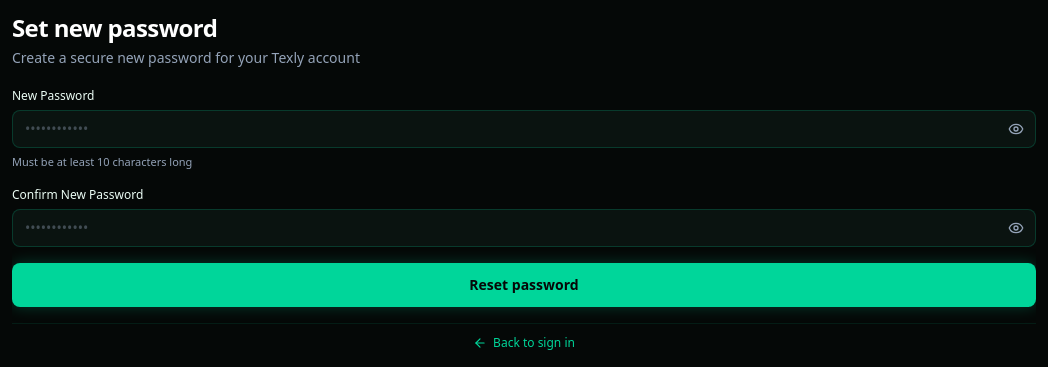
Test: ResetPasswordPage Component › resets password successfully and displays success screen
Type "NewBrandPassword123!" into the password field labelled "New Password" at (524, 129), box [12,110,1036,148]
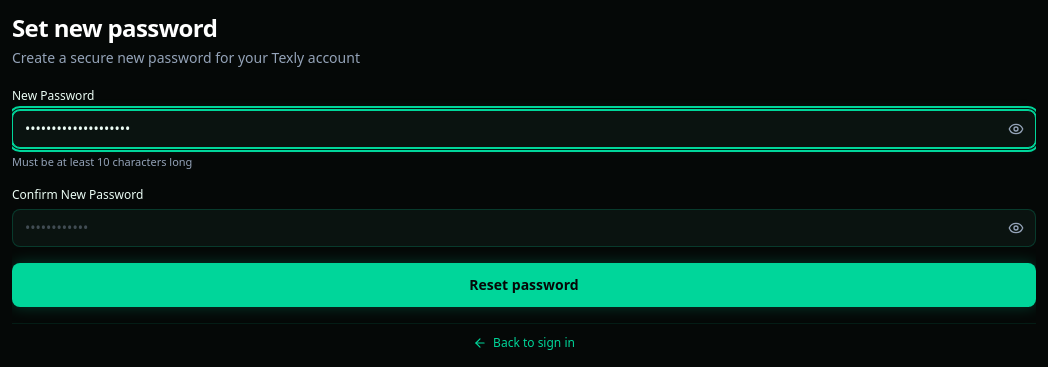
Type "NewBrandPassword123!" into the password field labelled "Confirm New Password" at (524, 228), box [12,208,1036,246]
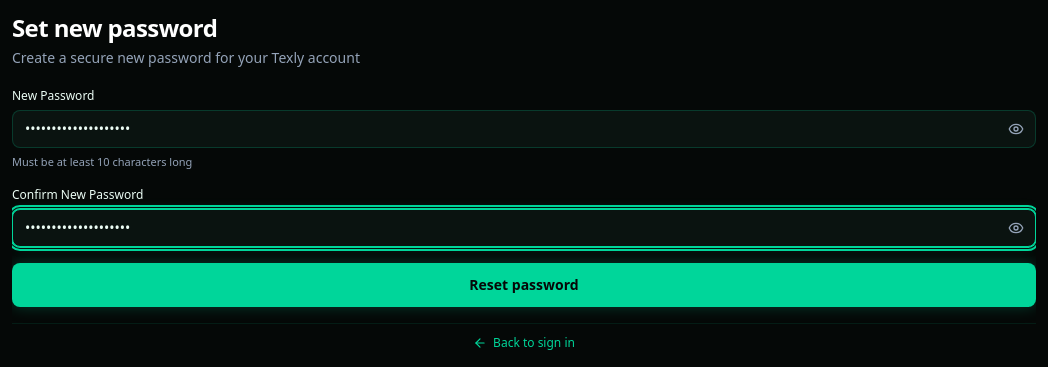
Click the button "Reset password" at (524, 284), box [12,262,1036,306]
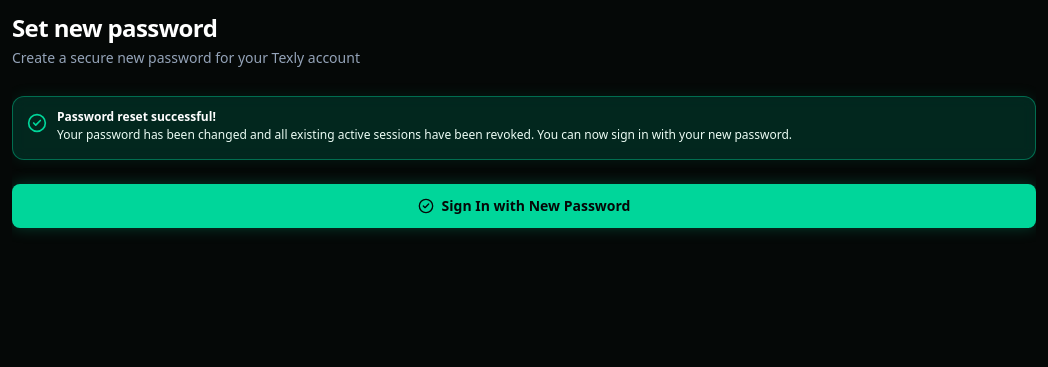
Now the heading "Password reset successful!" is shown, box [57,108,216,125]
